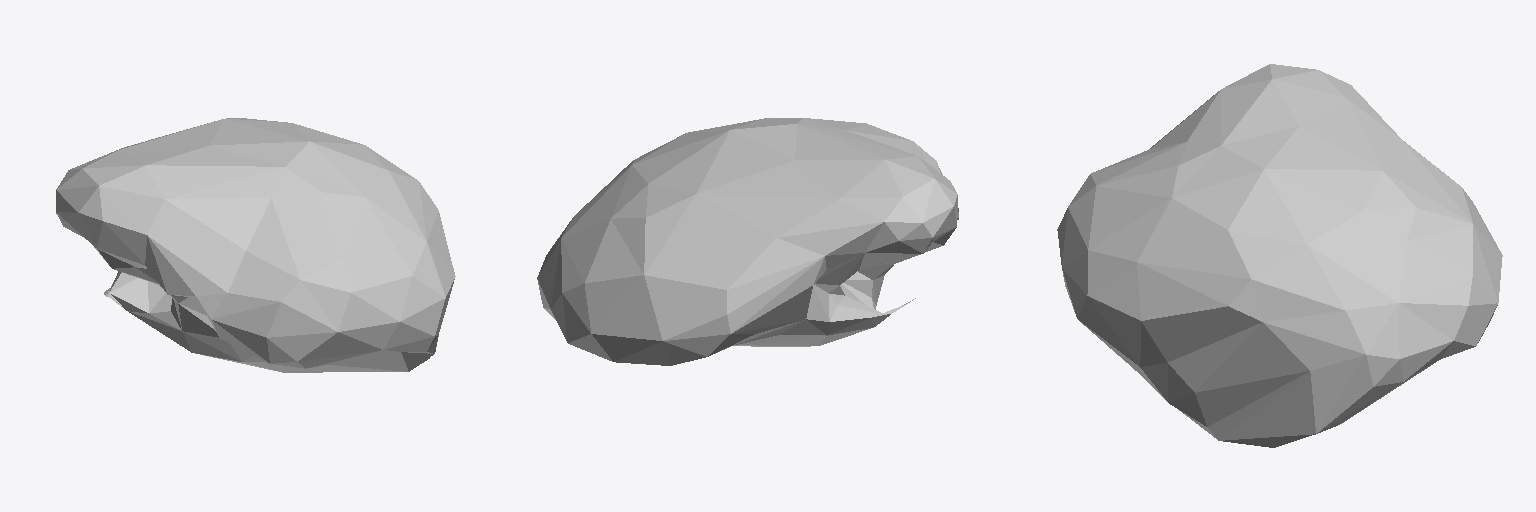
The model's file is RotulaNonCut.obj.
3 renders of one model, left to right at view 1: azimuth 30°, elevation 25°; view 2: azimuth 150°, elevation 25°; view 3: azimuth 270°, elevation 25°, orthographic.
Parts seen in each view (by area): view 1: GambaSingolaRotula_Bones; view 2: GambaSingolaRotula_Bones; view 3: GambaSingolaRotula_Bones.
Part boxes in pixels (bbox=[...]): GambaSingolaRotula_Bones: bbox=[56, 118, 455, 372]; GambaSingolaRotula_Bones: bbox=[537, 118, 958, 365]; GambaSingolaRotula_Bones: bbox=[1057, 64, 1502, 447].
Size of the model in its own units: 19.88 by 12.62 by 20.99.